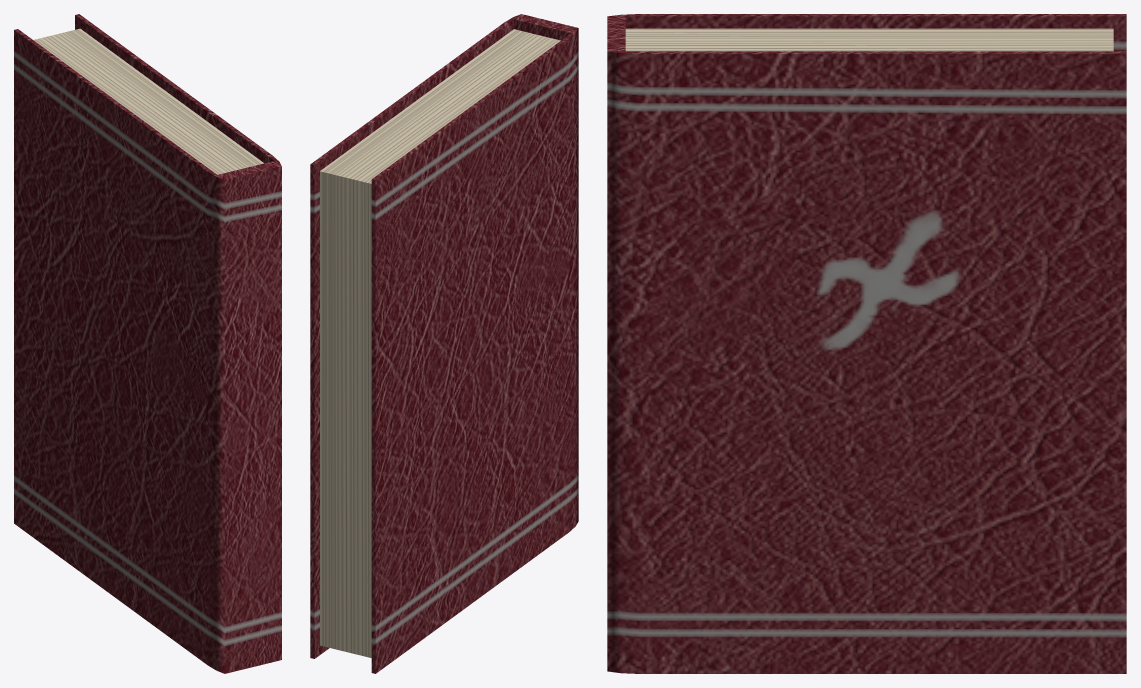
The model's file is book_red.fbx.
The picture shows the model from 3 angles, left to right: view 1: azimuth 30°, elevation 25°; view 2: azimuth 150°, elevation 25°; view 3: azimuth 270°, elevation 25°; orthographic projection. The views are drawn at different scales.
Visible parts, largest first — view 1: book_rd; view 2: book_rd; view 3: book_rd.
Boxes of the visible parts, <box> form: book_rd: <box>14,14,281,673</box>; book_rd: <box>310,14,578,673</box>; book_rd: <box>607,14,1126,673</box>.
Size of the model in its own units: 4.43 by 32.08 by 24.34.
